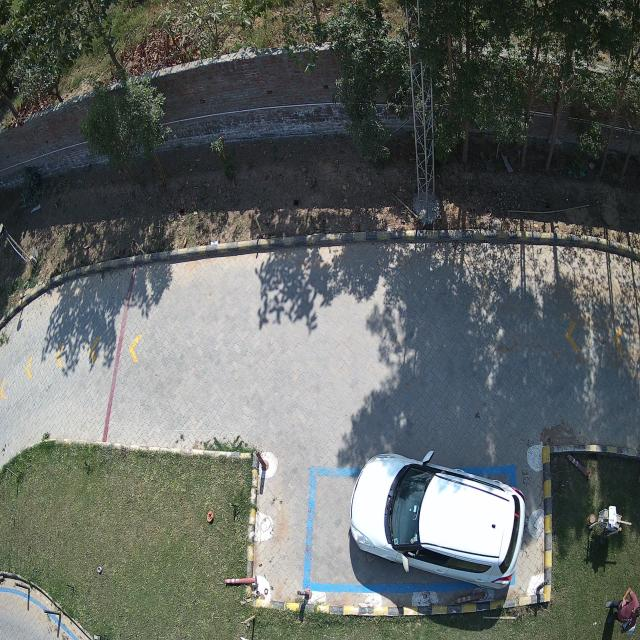car: (351, 450, 526, 591)
